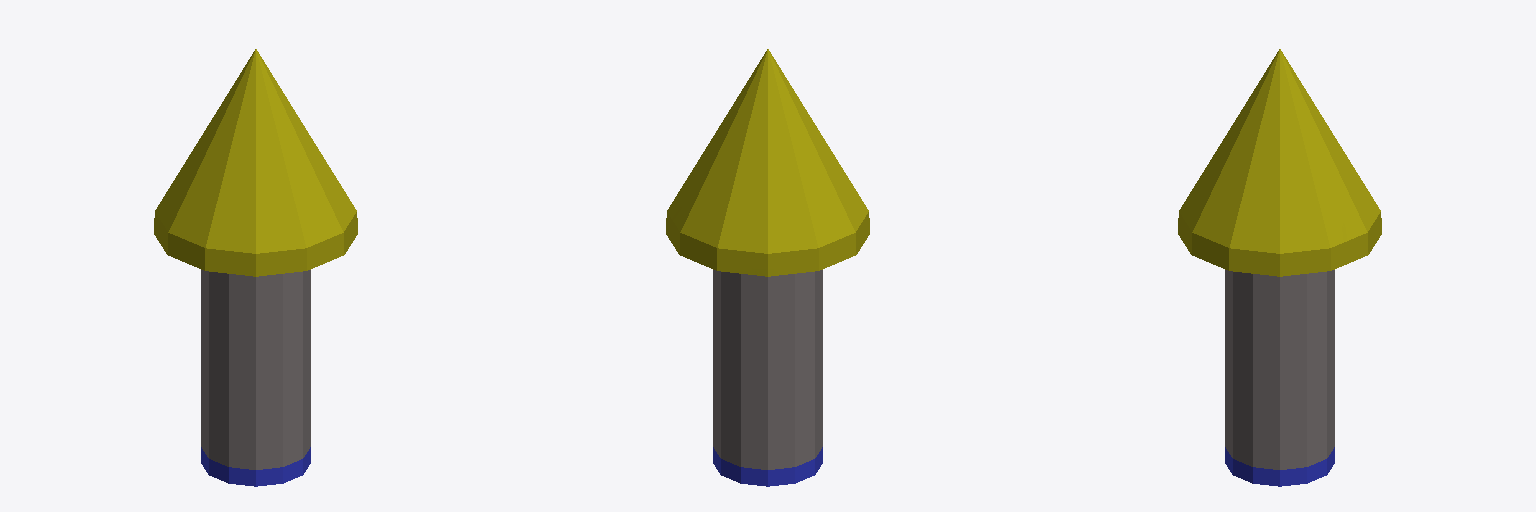
The picture shows the model from 3 angles: view 1: azimuth 30°, elevation 25°; view 2: azimuth 150°, elevation 25°; view 3: azimuth 270°, elevation 25°; orthographic projection.
Parts seen in each view (by area): view 1: Cylinder; view 2: Cylinder; view 3: Cylinder.
Boxes of the visible parts, x1,y1,x2,y2 form: Cylinder: [154, 49, 357, 486]; Cylinder: [666, 49, 869, 486]; Cylinder: [1178, 49, 1381, 486].
Bounding box in the file's own units: 0.7109 × 1.59 × 0.7109.
1 materials, 1 textured.